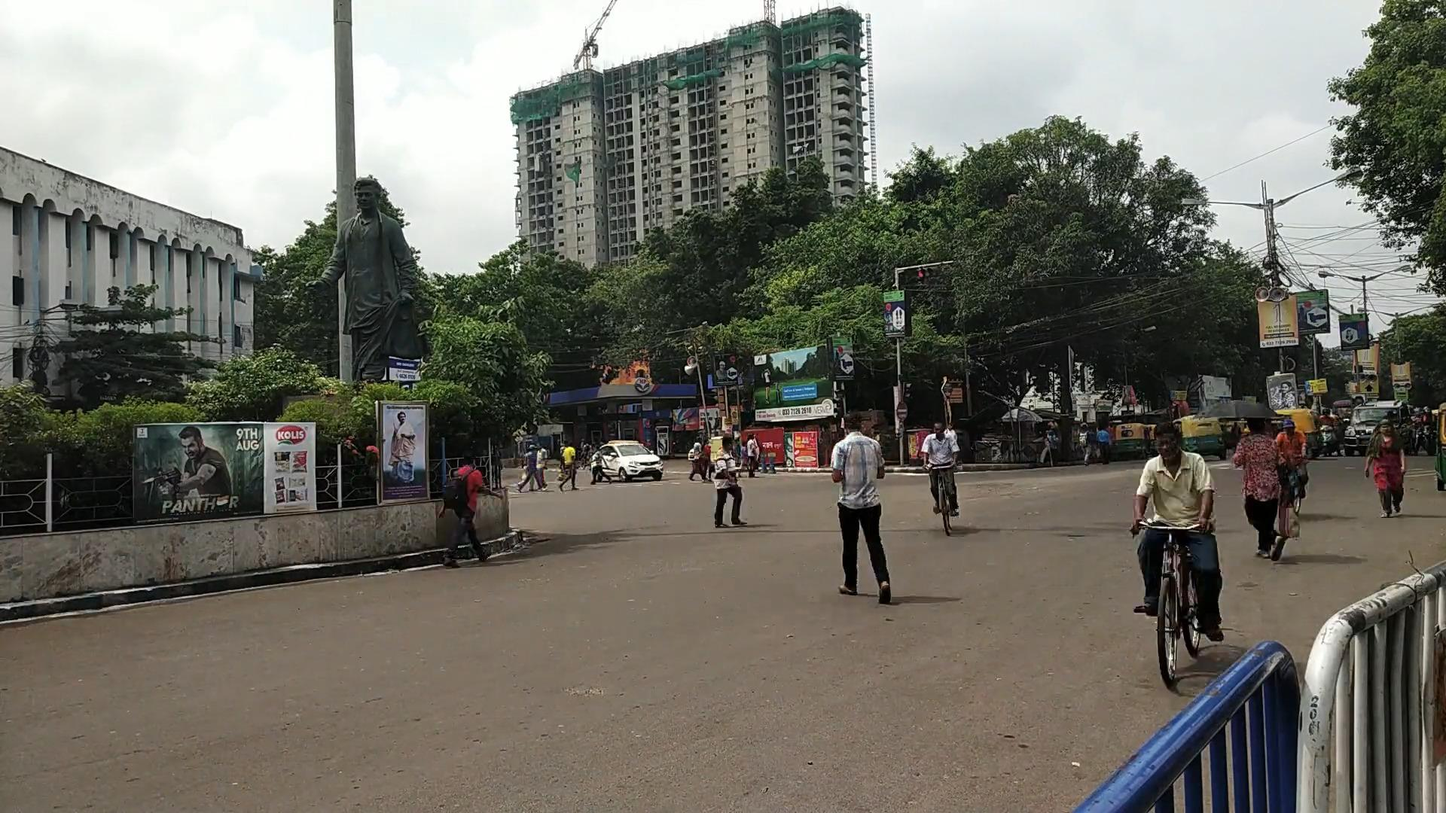bicyclist: (1129, 421, 1224, 687), (921, 422, 960, 537)
